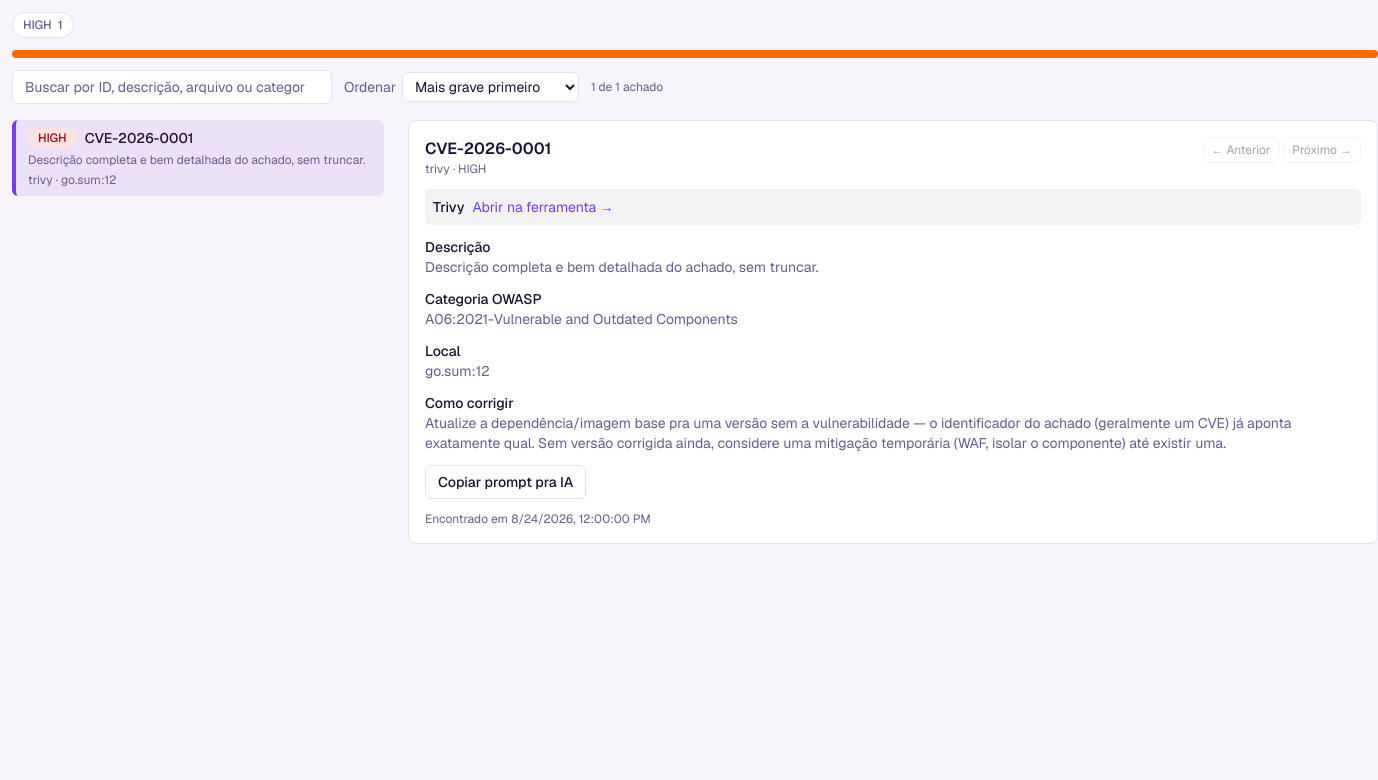
Test case: FindingsTable › Copiar prompt pra IA copia o markdown do achado pra área de transferência
Check: the text "Como corrigir" is shown, box [425,394,514,412]
Click the button "Copiar prompt pra IA".
click(506, 482)  # box [425,465,586,499]
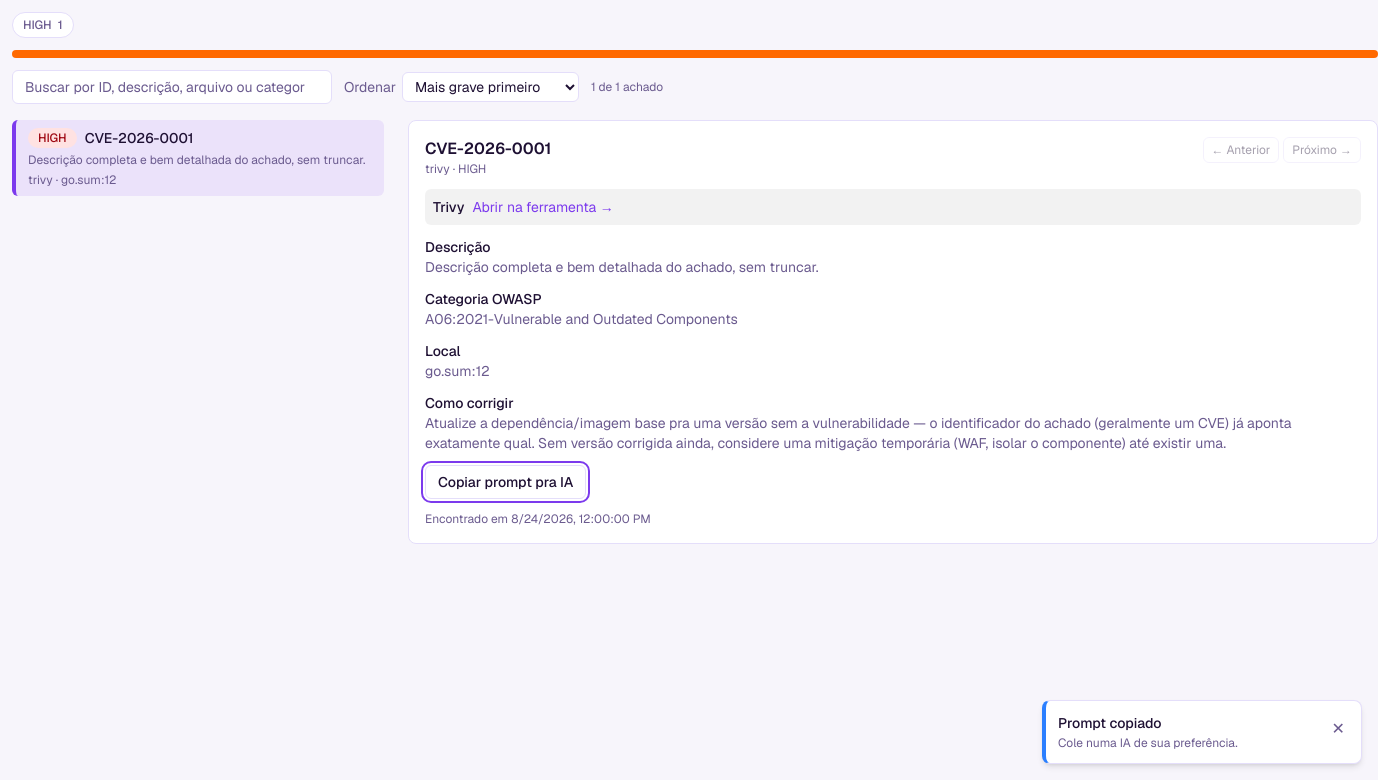
Check: the text "Prompt copiado" is shown, box [1058,714,1162,732]
